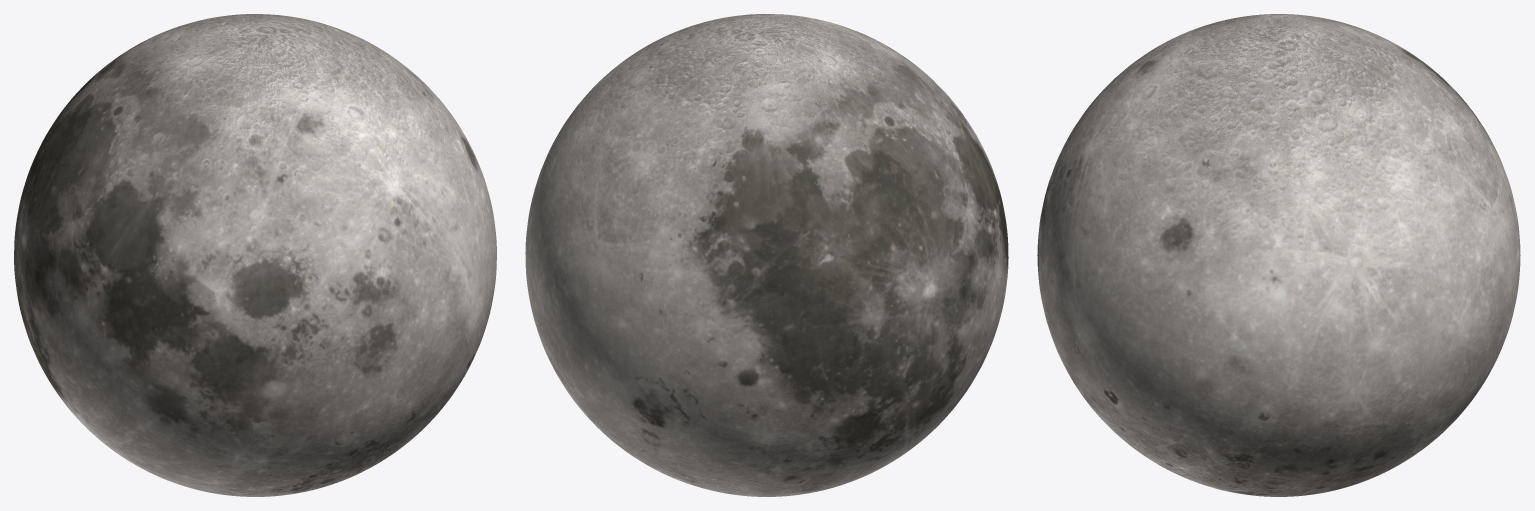
The model's file is moon.glb.
3 views of the same model, side by side, from view 1: azimuth 30°, elevation 25°; view 2: azimuth 150°, elevation 25°; view 3: azimuth 270°, elevation 25° (orthographic).
Parts seen in each view (by area): view 1: pSphere1.1; view 2: pSphere1.1; view 3: pSphere1.1.
Boxes of the visible parts, x1,y1,x2,y2 form: pSphere1.1: (14,14,496,496); pSphere1.1: (525,14,1008,496); pSphere1.1: (1037,14,1520,496).
Size of the model in its own units: 0.2 by 0.2 by 0.2.
1 material, 1 textured.
